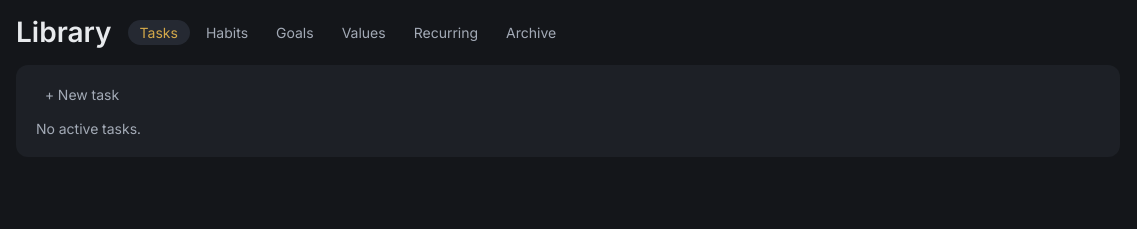
Scenario: Library archive tab restore › lists archived habits and recurring rules too
Click the tab "Archive" at (531, 32), box [494, 20, 568, 44]
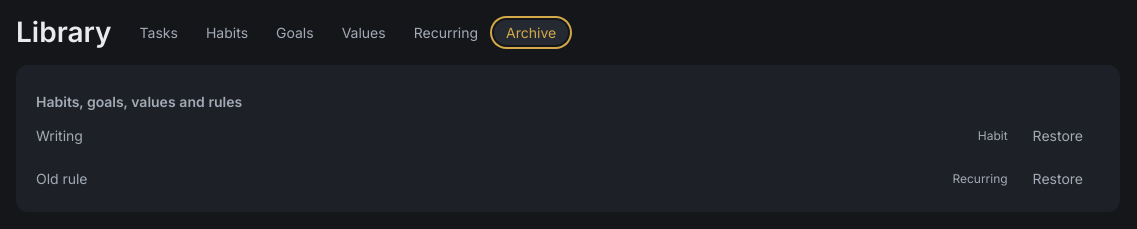
Check: the text "Writing" is shown, box [36, 127, 83, 144]
Check: the text "Old rule" is shown, box [36, 170, 88, 187]
